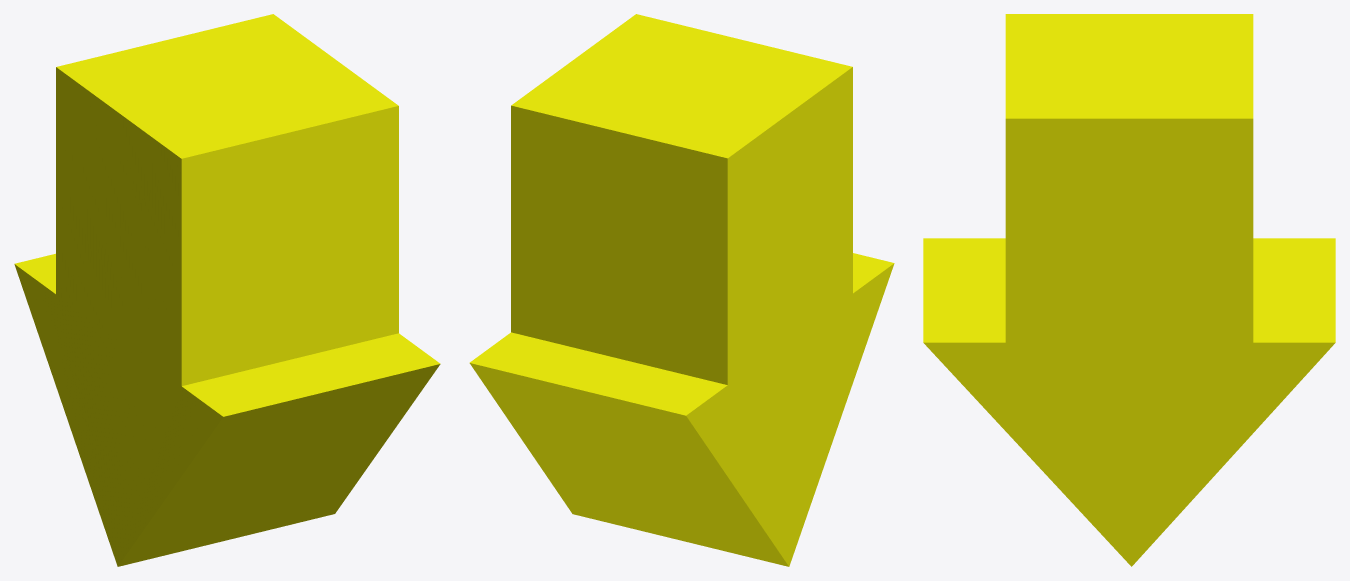
File: ArrowY.FBX
The picture shows the model from 3 angles, left to right: view 1: azimuth 30°, elevation 25°; view 2: azimuth 150°, elevation 25°; view 3: azimuth 270°, elevation 25°; orthographic projection.
Parts seen in each view (by area): view 1: Component#24_001; view 2: Component#24_001; view 3: Component#24_001.
Boxes of the visible parts, <box> form: Component#24_001: <box>14,14,440,566</box>; Component#24_001: <box>469,14,894,566</box>; Component#24_001: <box>923,14,1335,566</box>.
Bounding box in the file's own units: 76.2 × 152 × 127.
